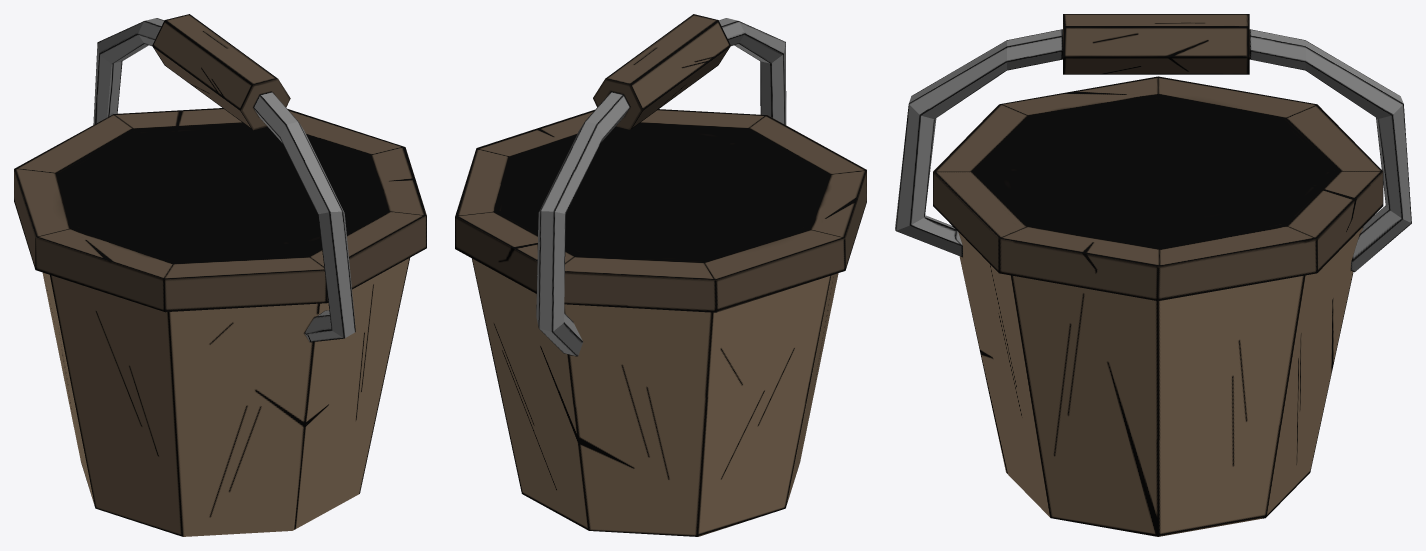
The model's file is seau.fbx.
3 renders of one model, left to right at view 1: azimuth 30°, elevation 25°; view 2: azimuth 150°, elevation 25°; view 3: azimuth 270°, elevation 25°, orthographic. The views are drawn at different scales.
Parts seen in each view (by area): view 1: seau; view 2: seau; view 3: seau.
Part boxes in pixels (bbox=[...]): seau: bbox=[14, 14, 426, 536]; seau: bbox=[455, 14, 866, 536]; seau: bbox=[895, 14, 1411, 536].
Bounding box in the file's own units: 30.26 × 33.54 × 34.74.
